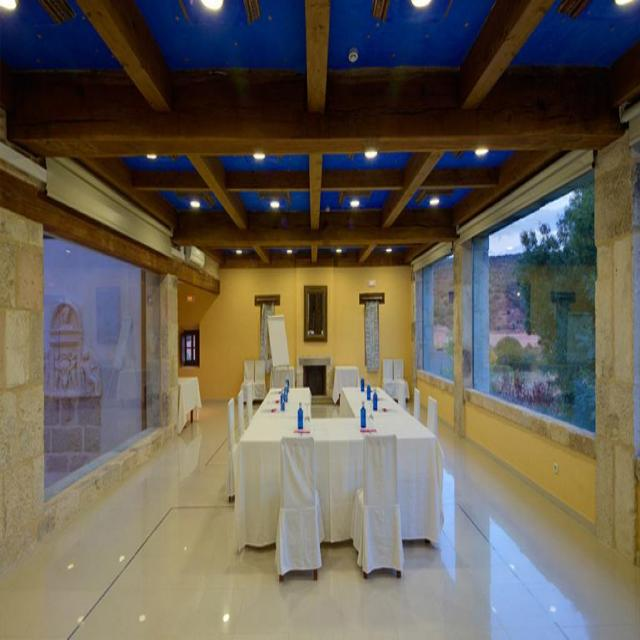table: (248, 387, 434, 583)
